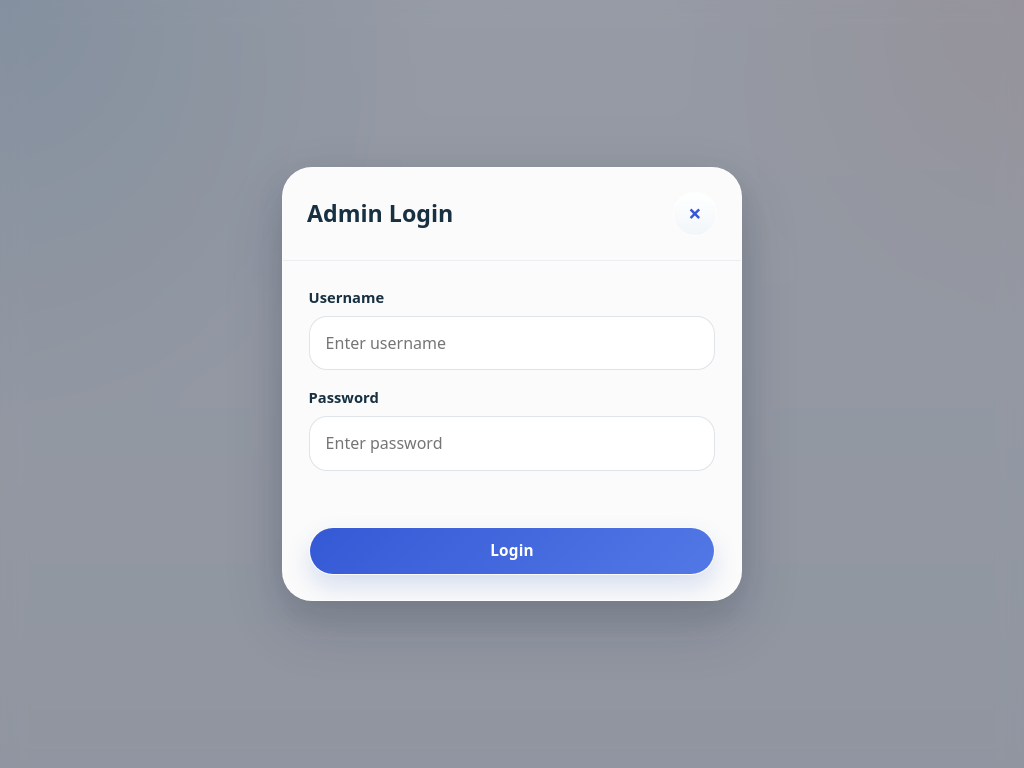
Scenario: LoginModal › shows a validation error when submitting empty fields
Click the button "Login" at (512, 551), box top-left (309, 526), bottom-right (715, 575)
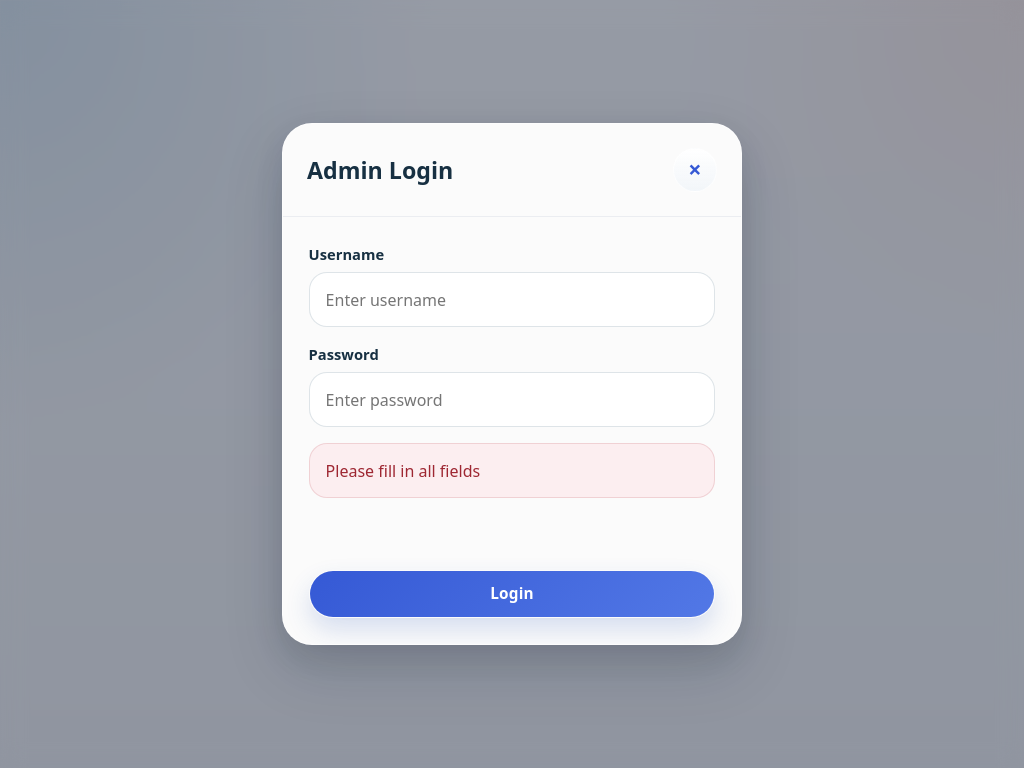
Expected: the text "Please fill in all fields" is shown, top-left (309, 443), bottom-right (715, 498)
